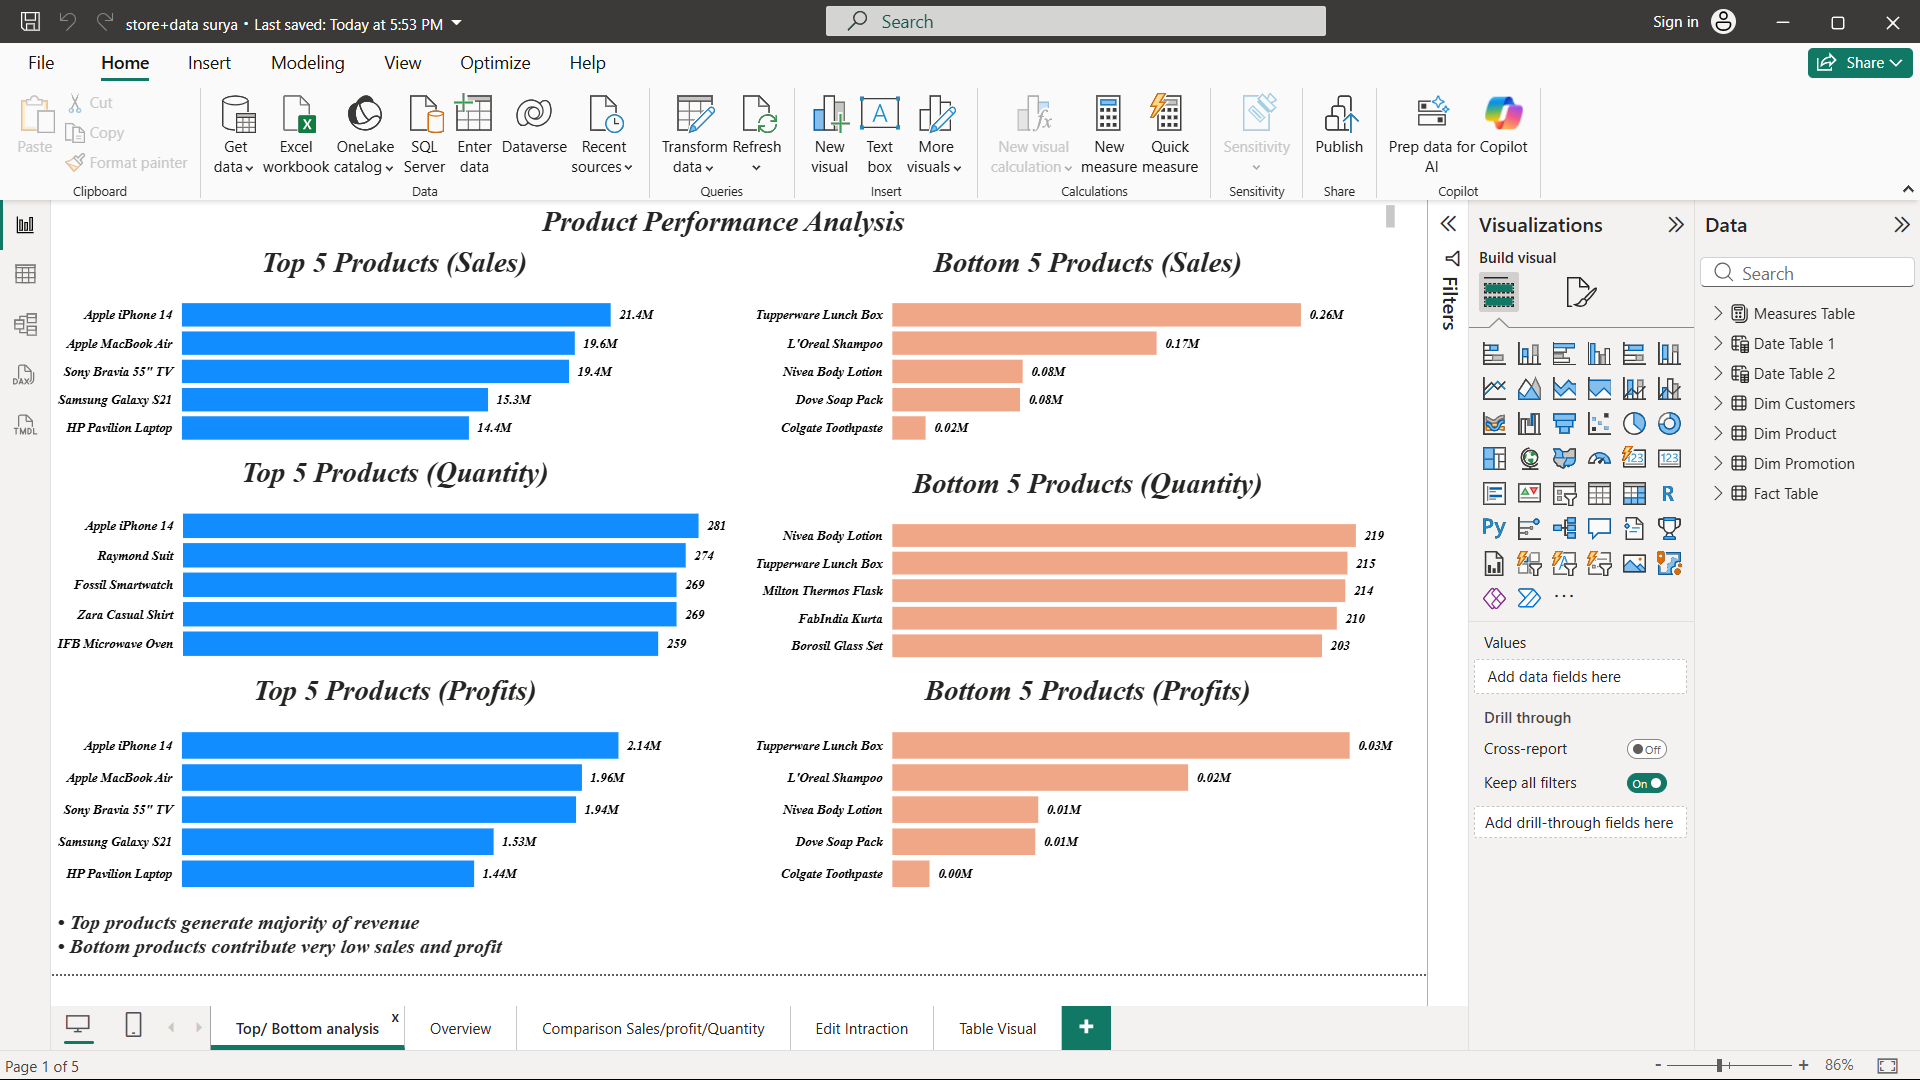

What the dashboard file says about the page in this screenshot:
{"tool":"powerbi","page":{"name":"Top/ Bottom analysis","canvas":[1280,720],"ordinal":0},"visuals":[{"type":"barChart","title":"Top 5  Products (Sales)","fields":{"Category":["Dim Product.Product Name"],"Y":["Sum(Fact Table.Net sales)"]},"box":[0,42.5,638.8,196.2],"z":0},{"type":"barChart","title":"Bottom 5  Products (Sales)","fields":{"Category":["Dim Product.Product Name"],"Y":["Sum(Fact Table.Net sales)"]},"box":[648.8,42.5,631.2,196.2],"z":1000},{"type":"barChart","title":"Top 5  Products (Quantity)","fields":{"Category":["Dim Product.Product Name"],"Y":["Sum(Fact Table.Units Sold)"]},"box":[0,238.8,640,202.5],"z":2000},{"type":"barChart","title":"Bottom 5  Products  (Quantity)","fields":{"Category":["Dim Product.Product Name"],"Y":["Sum(Fact Table.Units Sold)"]},"box":[648.8,248.8,631.2,192.5],"z":3000},{"type":"barChart","title":"Top 5  Products (Profits)","fields":{"Category":["Dim Product.Product Name"],"Y":["Sum(Fact Table.profit)"]},"box":[0,441.2,640,216.2],"z":4000},{"type":"barChart","title":"Bottom 5  Products (Profits)","fields":{"Category":["Dim Product.Product Name"],"Y":["Sum(Fact Table.profit)"]},"box":[648.8,441.2,631.2,216.2],"z":5000},{"type":"textbox","box":[1.2,0,1253.8,42.5],"z":6000},{"type":"textbox","box":[1.2,657.5,1278.8,62.5],"z":6001}]}

Visuals, with their boxes on the page's 1280x720 design canvas (x1, y1, x2, y2). These are canvas units, not pixel positions in the 1920x1080 screenshot, which may show the page scaled, cropped or inside an application window:
"Top 5  Products (Sales)" barChart: <region>0, 42, 639, 239</region>
"Bottom 5  Products (Sales)" barChart: <region>649, 42, 1280, 239</region>
"Top 5  Products (Quantity)" barChart: <region>0, 239, 640, 441</region>
"Bottom 5  Products  (Quantity)" barChart: <region>649, 249, 1280, 441</region>
"Top 5  Products (Profits)" barChart: <region>0, 441, 640, 657</region>
"Bottom 5  Products (Profits)" barChart: <region>649, 441, 1280, 657</region>
textbox: <region>1, 0, 1255, 42</region>
textbox: <region>1, 658, 1280, 720</region>
